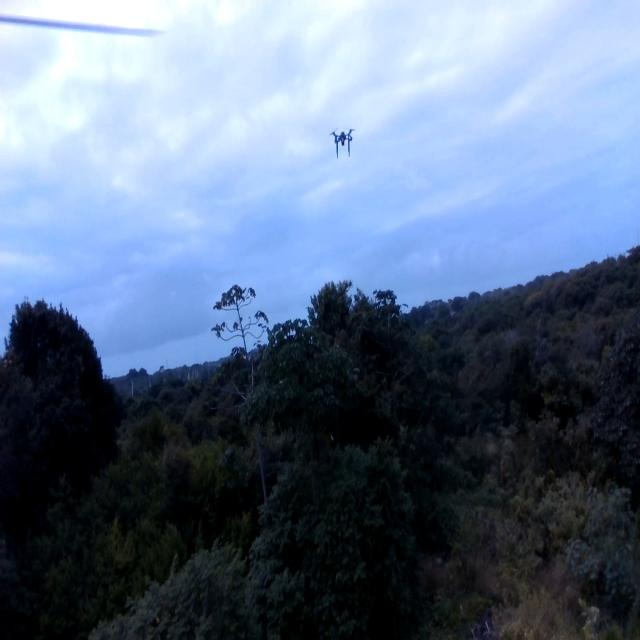-uav-: (324, 118, 361, 166)
